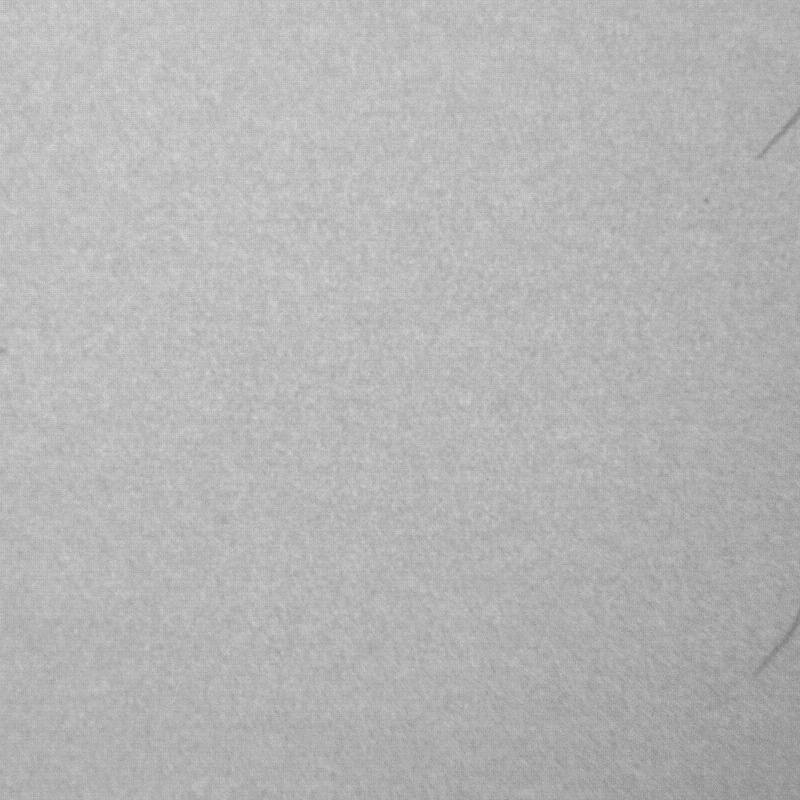defect: (754, 610, 799, 674), (758, 109, 798, 157)
